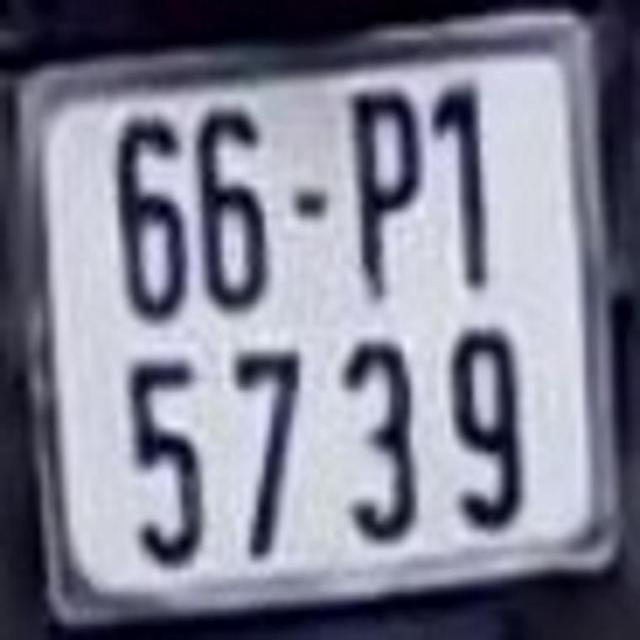1: (432, 84, 493, 287)
3: (334, 341, 418, 538)
5: (132, 354, 212, 568)
6: (114, 117, 194, 320), (198, 111, 270, 312)
7: (233, 344, 303, 558)
9: (449, 321, 523, 529)
P: (346, 92, 426, 300)
